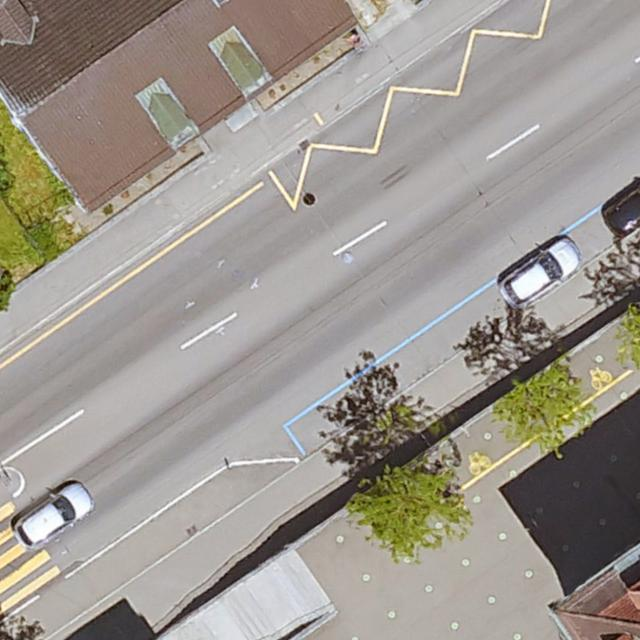tree: (358, 454, 465, 557), (492, 355, 595, 451), (621, 298, 640, 371), (0, 265, 14, 308)
